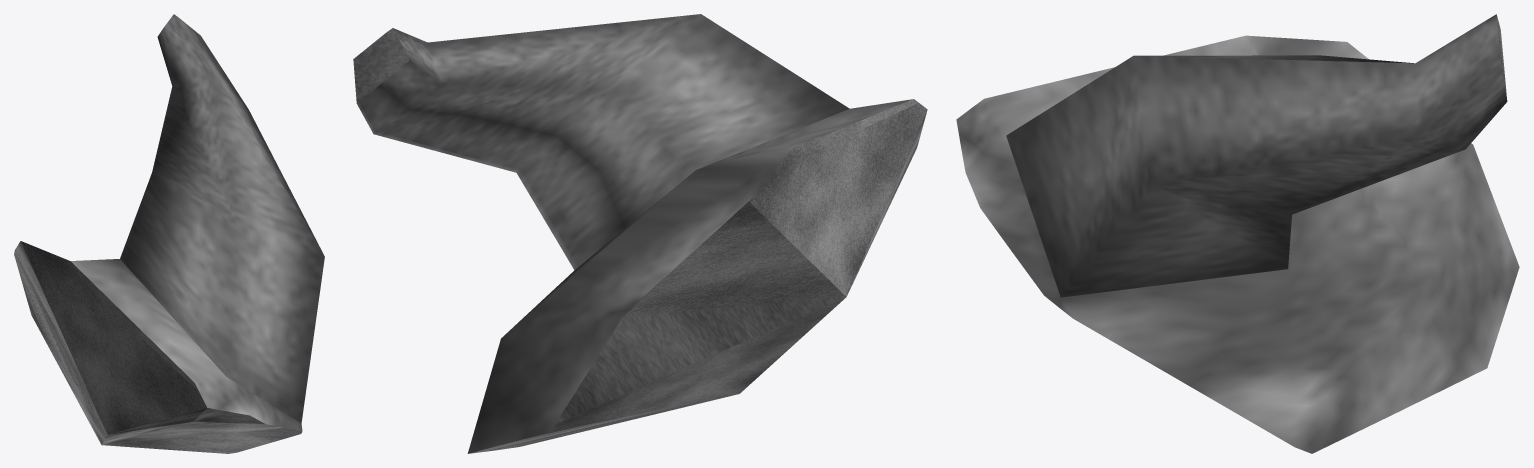
File: body_cell_038.fbx
3 renders of one model, left to right at view 1: azimuth 30°, elevation 25°; view 2: azimuth 150°, elevation 25°; view 3: azimuth 270°, elevation 25°, orthographic. The views are drawn at different scales.
Parts seen in each view (by area): view 1: body_cell.038; view 2: body_cell.038; view 3: body_cell.038.
Boxes of the visible parts, left/top/right/bottom form: body_cell.038: left=14, top=14, right=324, bottom=453; body_cell.038: left=353, top=14, right=927, bottom=453; body_cell.038: left=956, top=14, right=1519, bottom=453.
Bounding box in the file's own units: 29.48 × 41.28 × 46.51.
